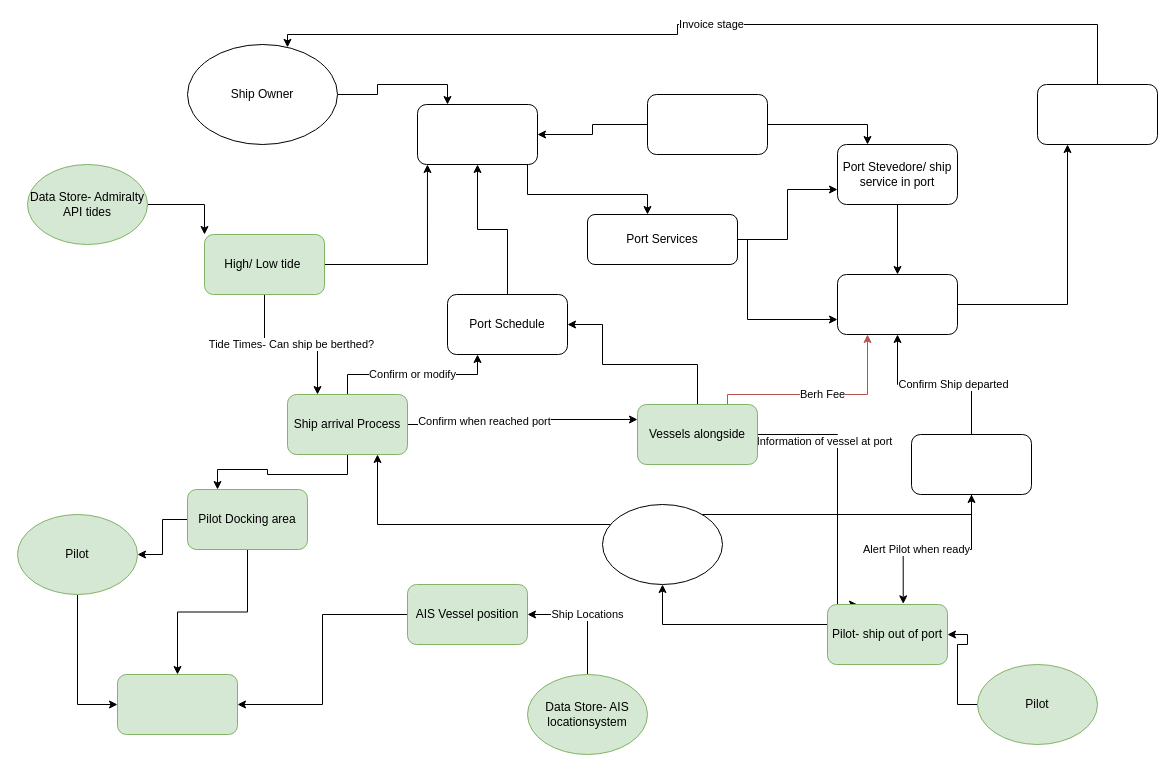
Some shapes in this 1175 by 772 pixel diagram are drawn without their labels. Each missing label, with the centre of its shape:
Berths + Facilities: (x=707, y=124)
Bill for services: (x=897, y=304)
Invoice/ Payment: (x=1097, y=114)
Order Berth + Facilities: (x=477, y=134)
Pilot- ship into port: (x=177, y=704)
Ship Captain: (x=662, y=544)
Ship departure Process: (x=971, y=464)
